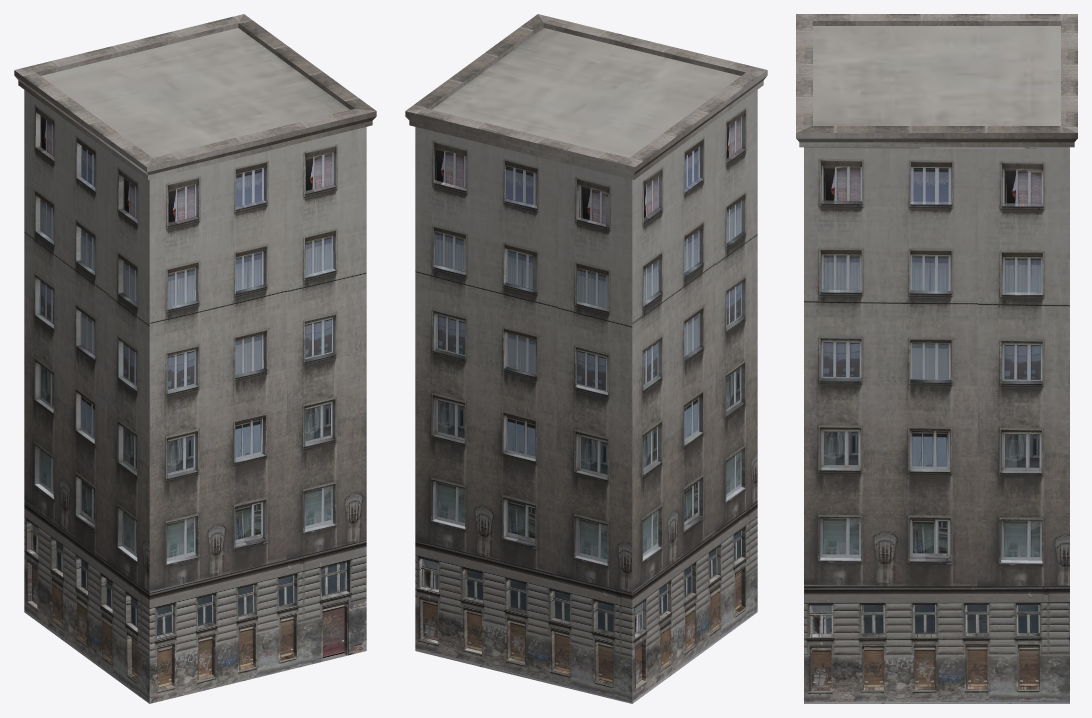
File: edificio_5.glb
3 renders of one model, left to right at view 1: azimuth 30°, elevation 25°; view 2: azimuth 150°, elevation 25°; view 3: azimuth 270°, elevation 25°, orthographic. The views are drawn at different scales.
Visible parts, largest first — view 1: Material_001-material; view 2: Material_001-material; view 3: Material_001-material.
Boxes of the visible parts, left/top/right/bottom form: Material_001-material: left=14, top=14, right=376, bottom=703; Material_001-material: left=405, top=14, right=767, bottom=703; Material_001-material: left=796, top=14, right=1077, bottom=703.
Size of the model in its own units: 9.24 by 20.79 by 9.24.
Materials: 1 (1 with a texture image).
